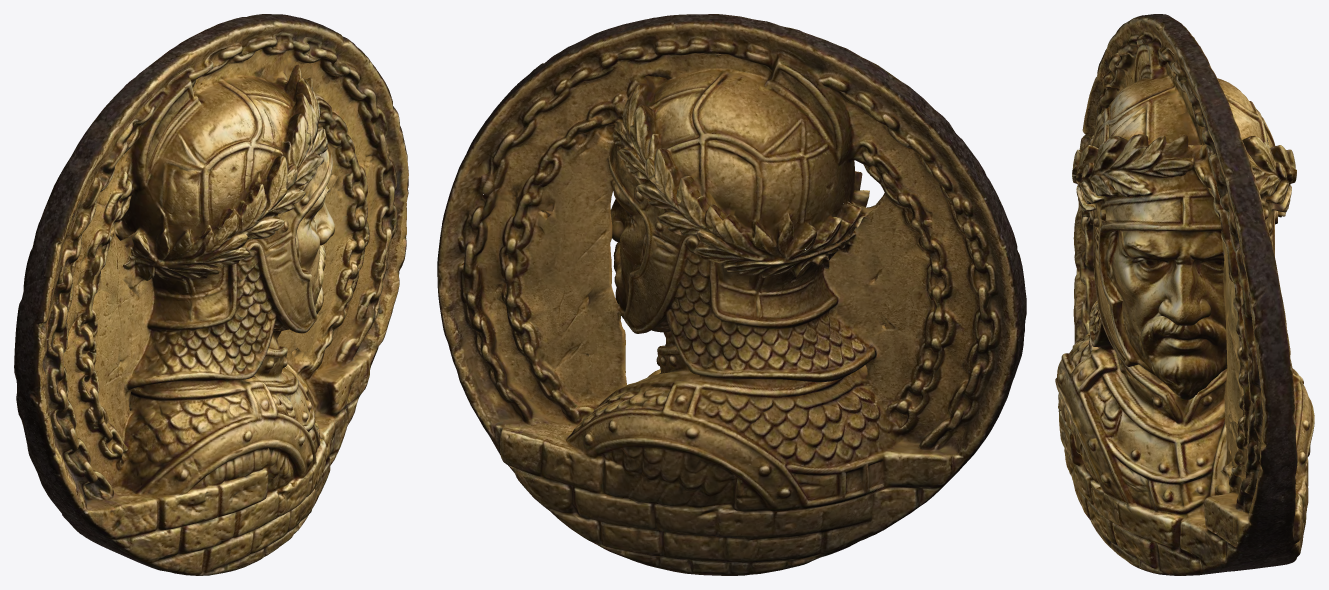
File: hero-validator.glb
The picture shows the model from 3 angles, left to right: view 1: azimuth 30°, elevation 25°; view 2: azimuth 150°, elevation 25°; view 3: azimuth 270°, elevation 25°; orthographic projection. The views are drawn at different scales.
Parts seen in each view (by area): view 1: tripo_node_2cd81435-e100-4990-9f1e-6ae263ca2d48; view 2: tripo_node_2cd81435-e100-4990-9f1e-6ae263ca2d48; view 3: tripo_node_2cd81435-e100-4990-9f1e-6ae263ca2d48.
Boxes of the visible parts, x1=… form: tripo_node_2cd81435-e100-4990-9f1e-6ae263ca2d48: x1=14, y1=14, x2=408, y2=575; tripo_node_2cd81435-e100-4990-9f1e-6ae263ca2d48: x1=437, y1=14, x2=1026, y2=575; tripo_node_2cd81435-e100-4990-9f1e-6ae263ca2d48: x1=1055, y1=14, x2=1314, y2=575.
Bounding box in the file's own units: 0.9763 × 0.9996 × 0.4637.
1 material, 1 textured.
